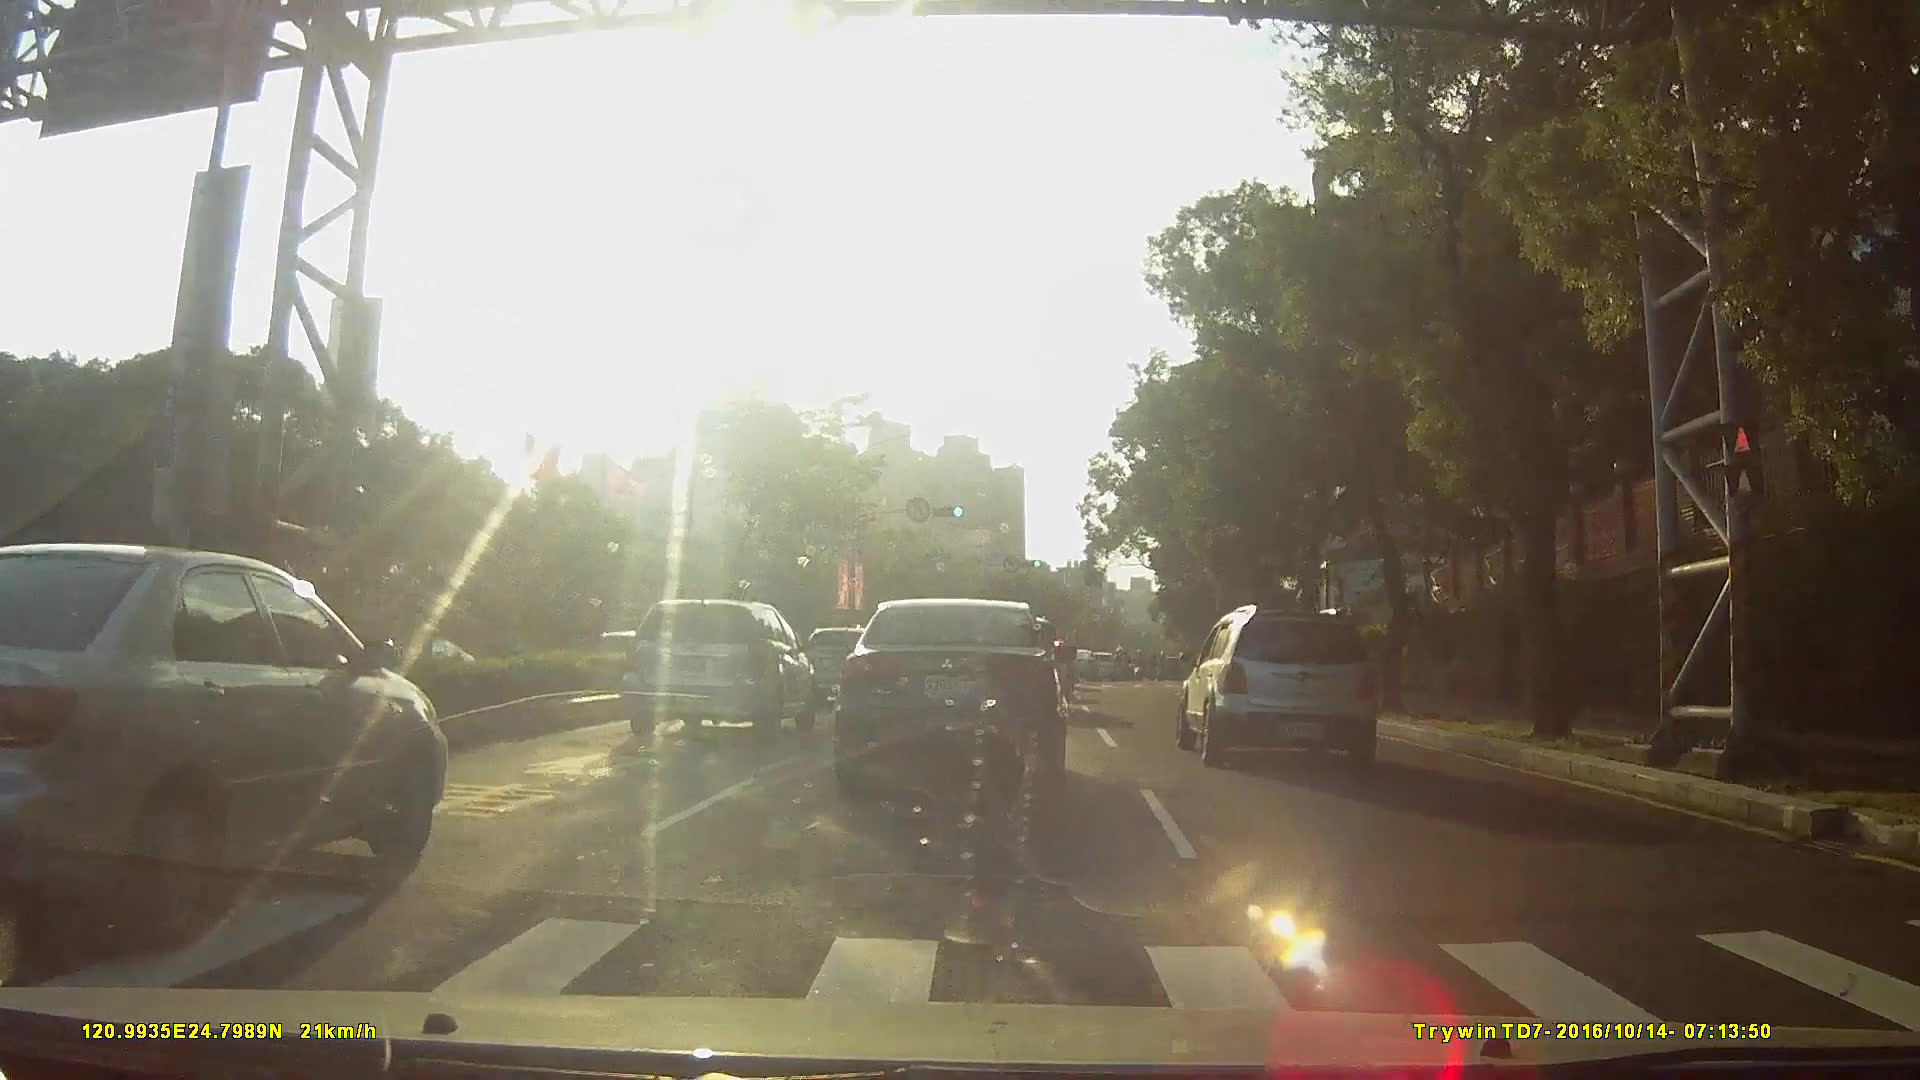vehicle: (1, 533, 460, 942), (835, 599, 1065, 810), (1171, 593, 1396, 771), (615, 599, 818, 741), (1062, 651, 1096, 686), (1079, 655, 1116, 686)
